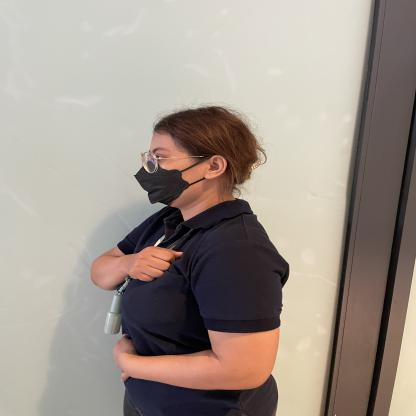Sadness: (81, 230, 207, 306)
